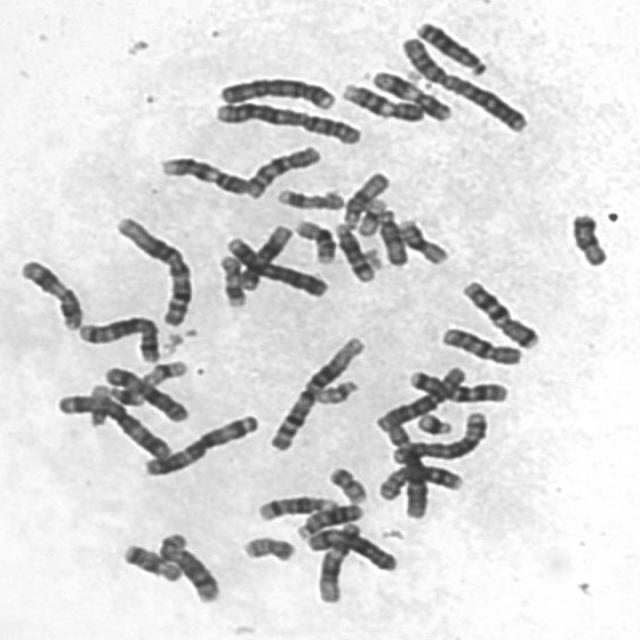A1: (263, 329, 368, 453), (108, 211, 196, 327)
A2: (396, 29, 530, 134), (208, 95, 365, 146)
A3: (49, 387, 174, 461), (137, 408, 262, 478)
B4: (218, 231, 330, 299), (213, 70, 337, 111)
B5: (388, 406, 490, 462), (71, 311, 162, 364)
C10: (240, 139, 323, 200), (434, 320, 525, 367)
C11: (12, 254, 84, 332), (366, 64, 455, 123)
C12: (310, 516, 362, 604), (235, 220, 296, 290)
C6: (370, 360, 470, 432), (375, 416, 431, 522)
C7: (455, 275, 542, 350), (402, 364, 511, 405)
C8: (151, 526, 222, 604), (372, 458, 466, 502)
C9: (153, 150, 250, 197), (335, 76, 427, 124)
D13: (409, 15, 489, 77), (290, 498, 365, 540)
D14: (328, 218, 378, 284), (252, 490, 338, 522)
D15: (335, 166, 392, 232), (373, 204, 410, 268)
E16: (392, 214, 451, 267), (288, 215, 337, 265)
E17: (271, 183, 346, 212), (213, 249, 248, 310)
E18: (115, 537, 183, 584), (564, 207, 610, 268)
F19: (139, 354, 190, 389), (353, 193, 389, 237)
F20: (236, 529, 297, 563), (321, 461, 369, 504)
G21: (410, 407, 456, 437), (100, 378, 148, 406)
G22: (310, 374, 361, 405), (359, 243, 383, 271)
X: (98, 361, 191, 424), (301, 521, 400, 574)
